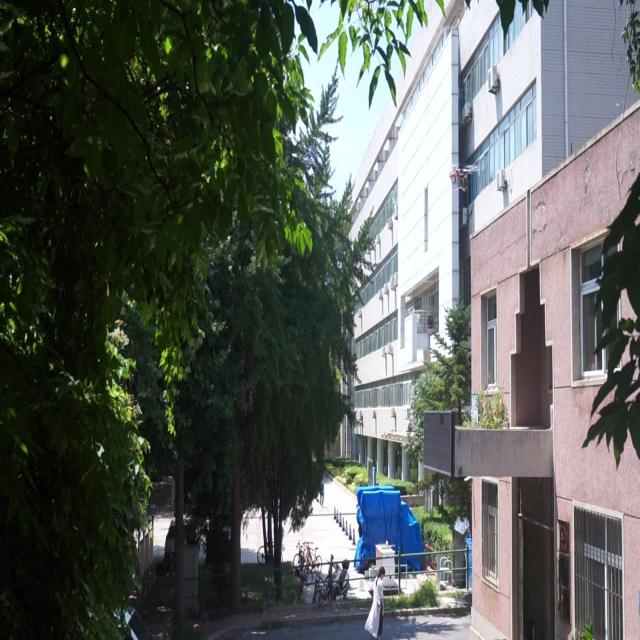UAV: (445, 164, 479, 192)
